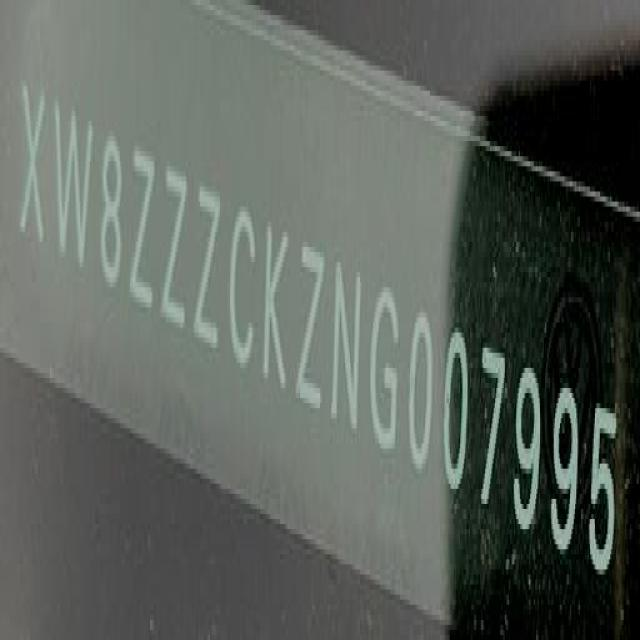0: (404, 291, 436, 484), (441, 308, 469, 502)
5: (589, 386, 620, 586)
7: (477, 334, 507, 521)
8: (98, 126, 126, 299)
9: (550, 374, 582, 567), (514, 350, 544, 546)
C: (227, 196, 257, 379)
G: (371, 267, 406, 462)
K: (262, 212, 290, 404)
N: (327, 246, 366, 441)
W: (50, 80, 94, 281)
X: (18, 65, 48, 266)
Z: (194, 169, 225, 360), (296, 225, 326, 421), (160, 153, 190, 339), (130, 135, 159, 321)
